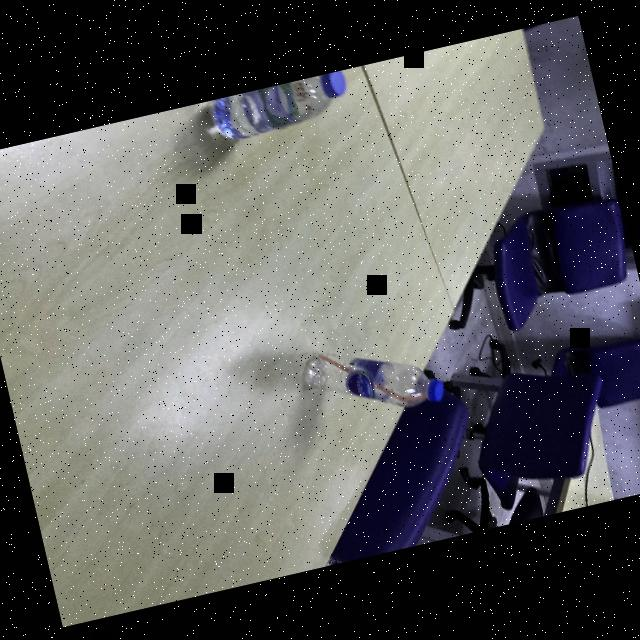plastic_bottle: (295, 326, 448, 430), (203, 68, 355, 147)
